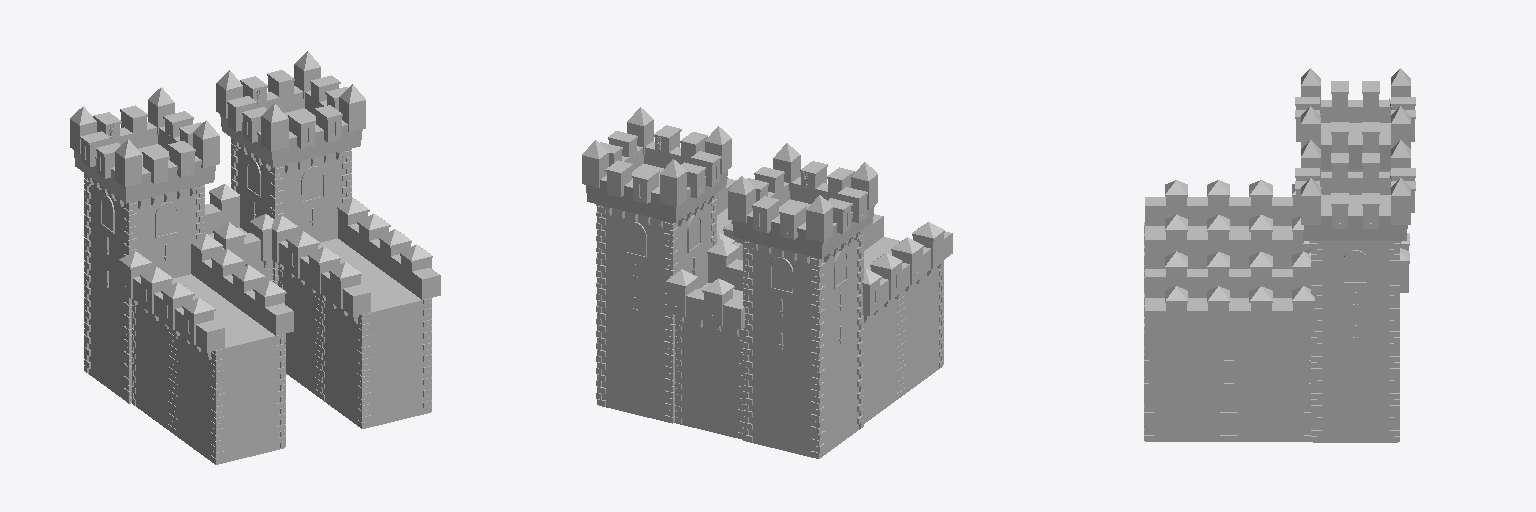
Rendered from DeadEnd.obj.
3 renders of one model, left to right at view 1: azimuth 30°, elevation 25°; view 2: azimuth 150°, elevation 25°; view 3: azimuth 270°, elevation 25°, orthographic.
Visible parts, largest first — view 1: DeadEnd_Cube.017; view 2: DeadEnd_Cube.017; view 3: DeadEnd_Cube.017.
Boxes of the visible parts, box(x1,y1,x2,y2) form: DeadEnd_Cube.017: box(70, 51, 440, 464); DeadEnd_Cube.017: box(582, 107, 952, 458); DeadEnd_Cube.017: box(1144, 68, 1415, 442).
Bounding box in the file's own units: 13.74 × 13.91 × 12.9.